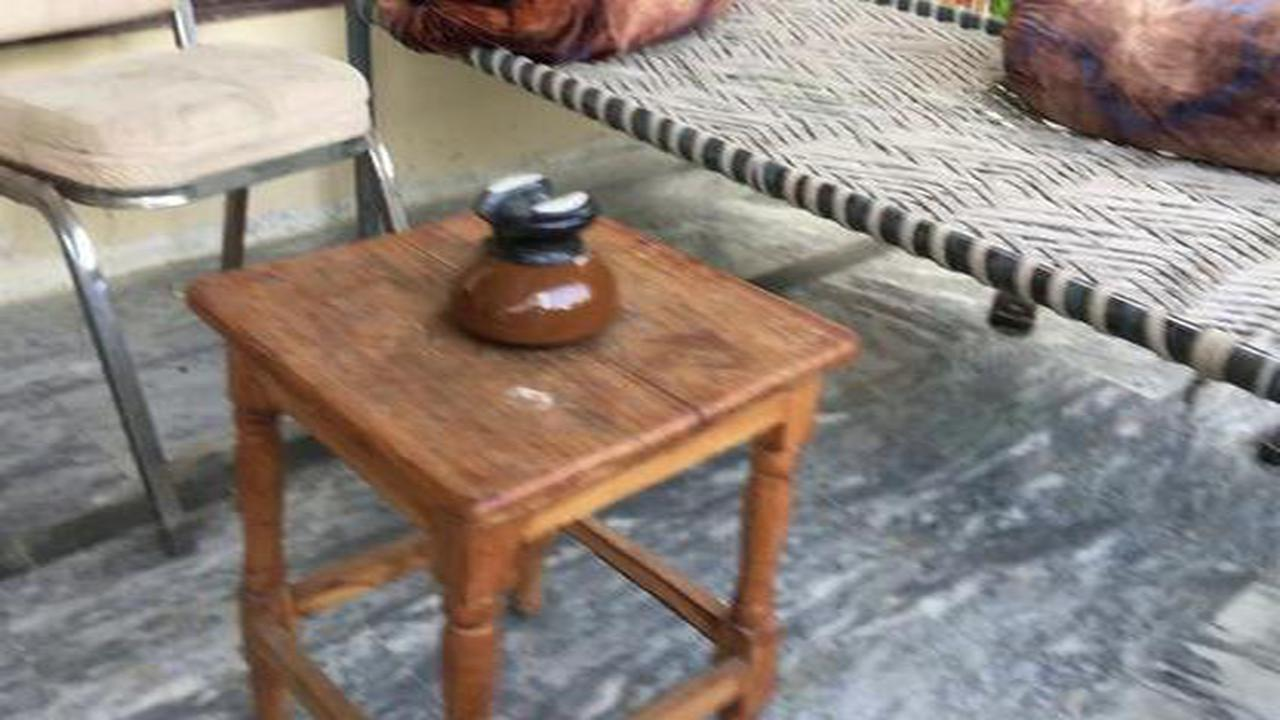insulator_pin: (425, 156, 653, 357)
